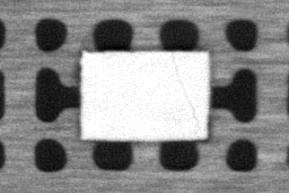DIE_CRACK: (171, 53, 199, 129)
